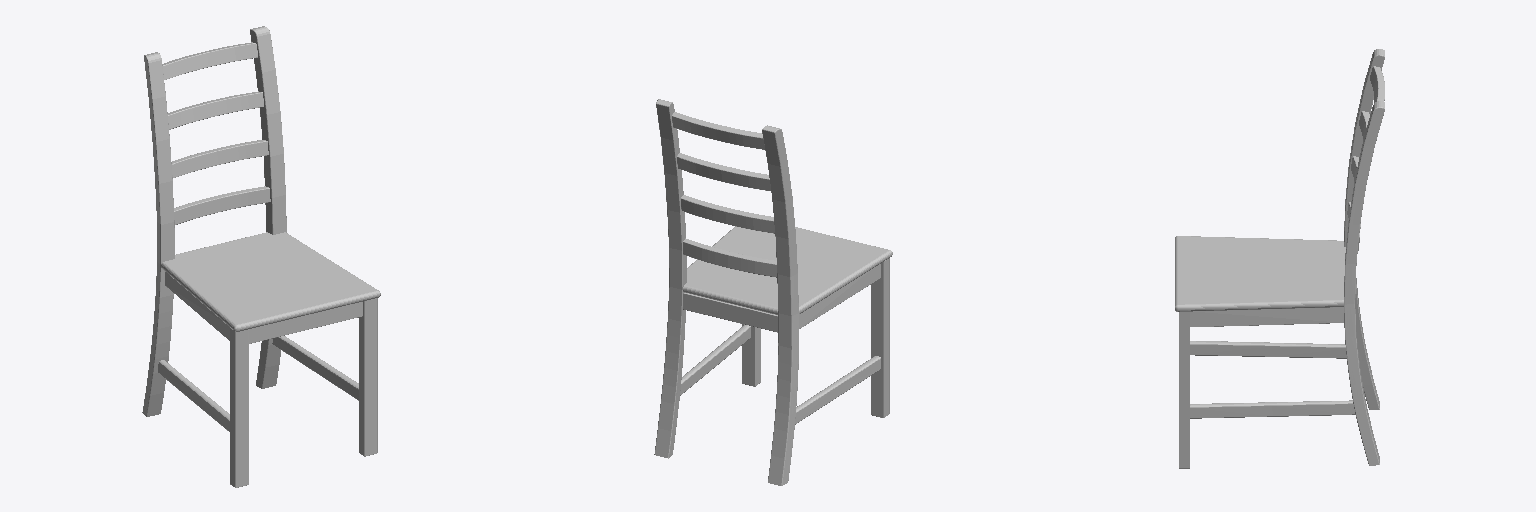
File: Chair.obj
The picture shows the model from 3 angles: view 1: azimuth 30°, elevation 25°; view 2: azimuth 150°, elevation 25°; view 3: azimuth 270°, elevation 25°; orthographic projection.
Parts seen in each view (by area): view 1: Chair; view 2: Chair; view 3: Chair.
Part boxes in pixels (left/top/right/bottom): Chair: left=142, top=26, right=380, bottom=487; Chair: left=654, top=99, right=892, bottom=485; Chair: left=1175, top=49, right=1384, bottom=468.
Size of the model in its own units: 0.9535 by 2.22 by 1.19.